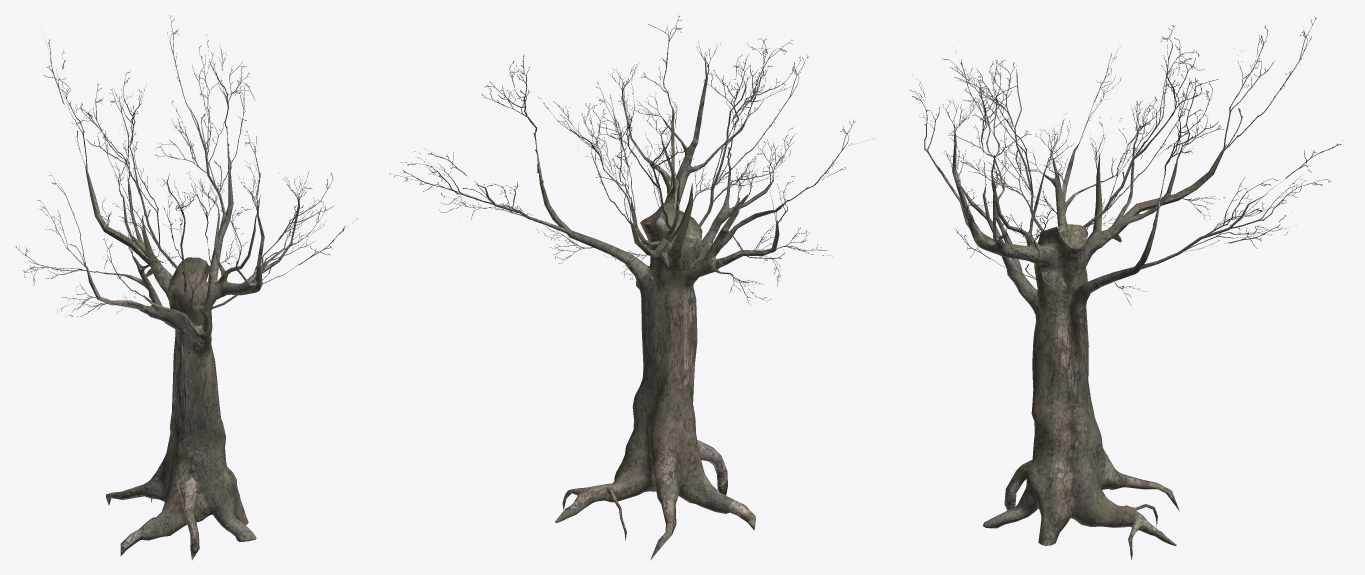
Rendered from SM_Tree_08.fbx.
3 views of the same model, side by side, from view 1: azimuth 30°, elevation 25°; view 2: azimuth 150°, elevation 25°; view 3: azimuth 270°, elevation 25° (orthographic). The views are drawn at different scales.
Visible parts, largest first — view 1: SM_Tree_08; view 2: SM_Tree_08; view 3: SM_Tree_08.
Part boxes in pixels (box(x1,y1,x2,y2)): SM_Tree_08: box(16, 15, 357, 560); SM_Tree_08: box(389, 16, 873, 560); SM_Tree_08: box(909, 16, 1343, 559).
Bounding box in the file's own units: 915 × 1060 × 1304.
Materials: 2 (2 with a texture image).
